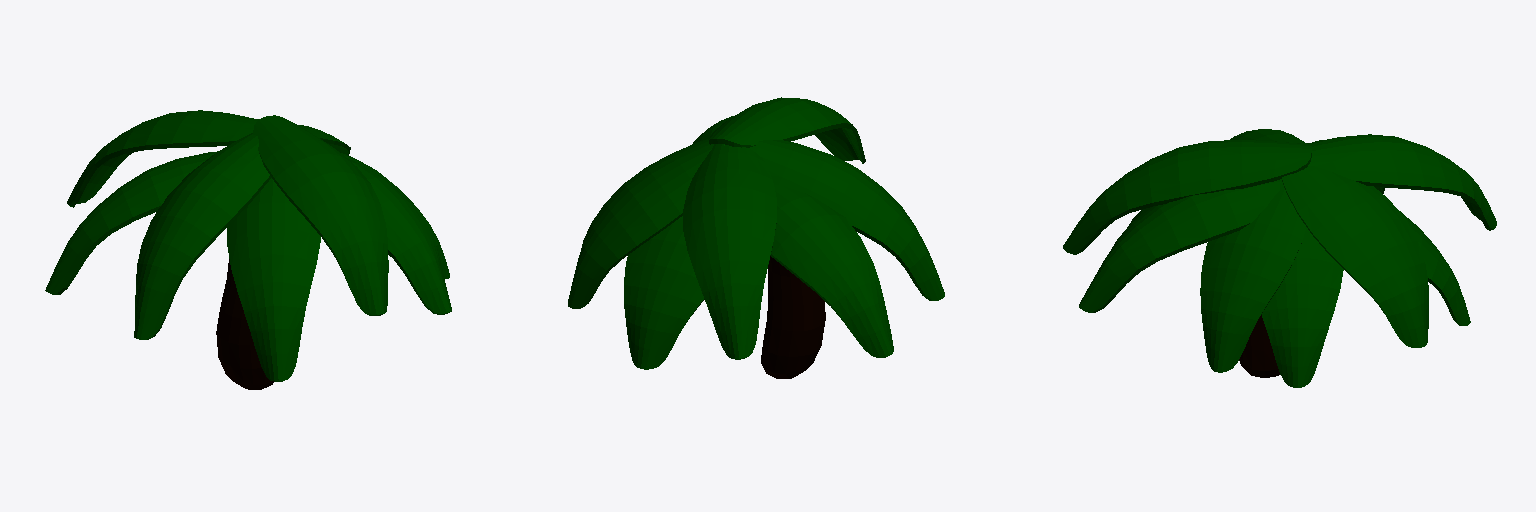
File: tree.obj
3 renders of one model, left to right at view 1: azimuth 30°, elevation 25°; view 2: azimuth 150°, elevation 25°; view 3: azimuth 270°, elevation 25°, orthographic.
Visible parts, largest first — view 1: material_tree_Plane; view 2: material_tree_Plane; view 3: material_tree_Plane.
Boxes of the visible parts, x1,y1,x2,y2 form: material_tree_Plane: [45, 110, 451, 389]; material_tree_Plane: [568, 97, 944, 378]; material_tree_Plane: [1063, 129, 1496, 387].
Size of the model in its own units: 12.8 by 9.04 by 14.46.